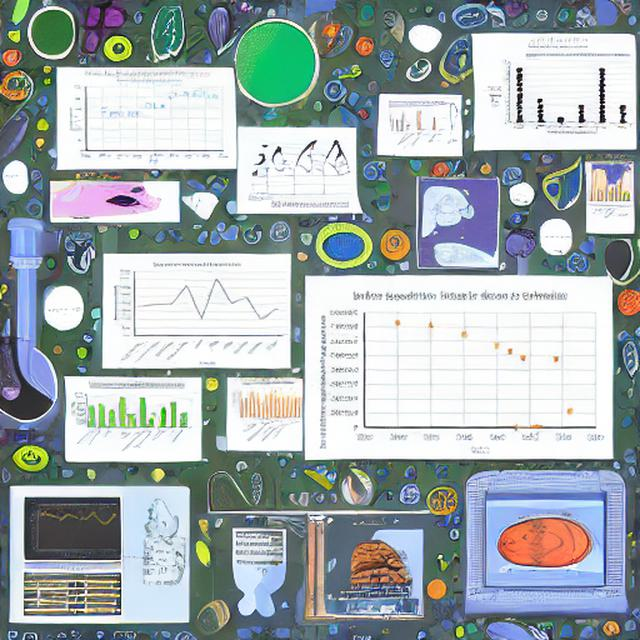Graph: (312, 284, 610, 456), (109, 259, 288, 366), (66, 69, 230, 167), (486, 51, 635, 136), (68, 382, 192, 452), (27, 501, 121, 560), (232, 383, 303, 424), (384, 105, 439, 136)
